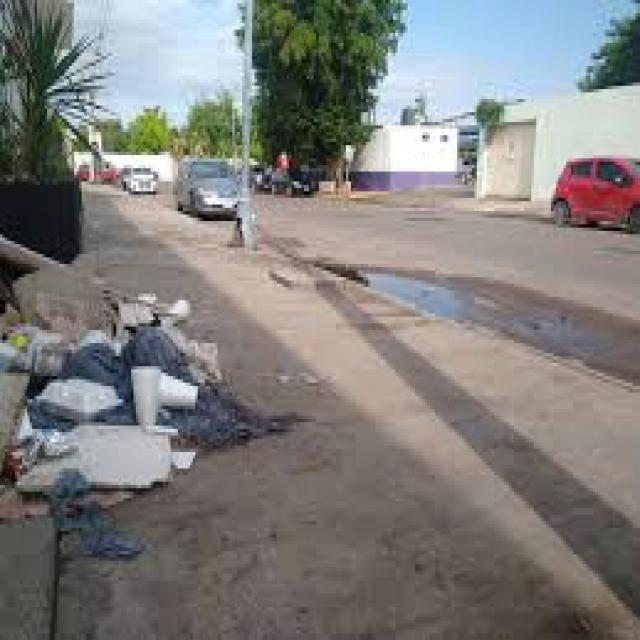garbage: (0, 278, 229, 530)
